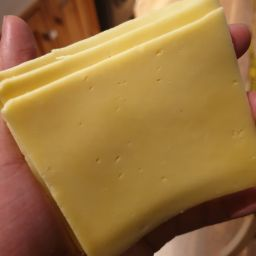Cheddar cheese: (2, 24, 256, 248), (1, 2, 246, 130)
